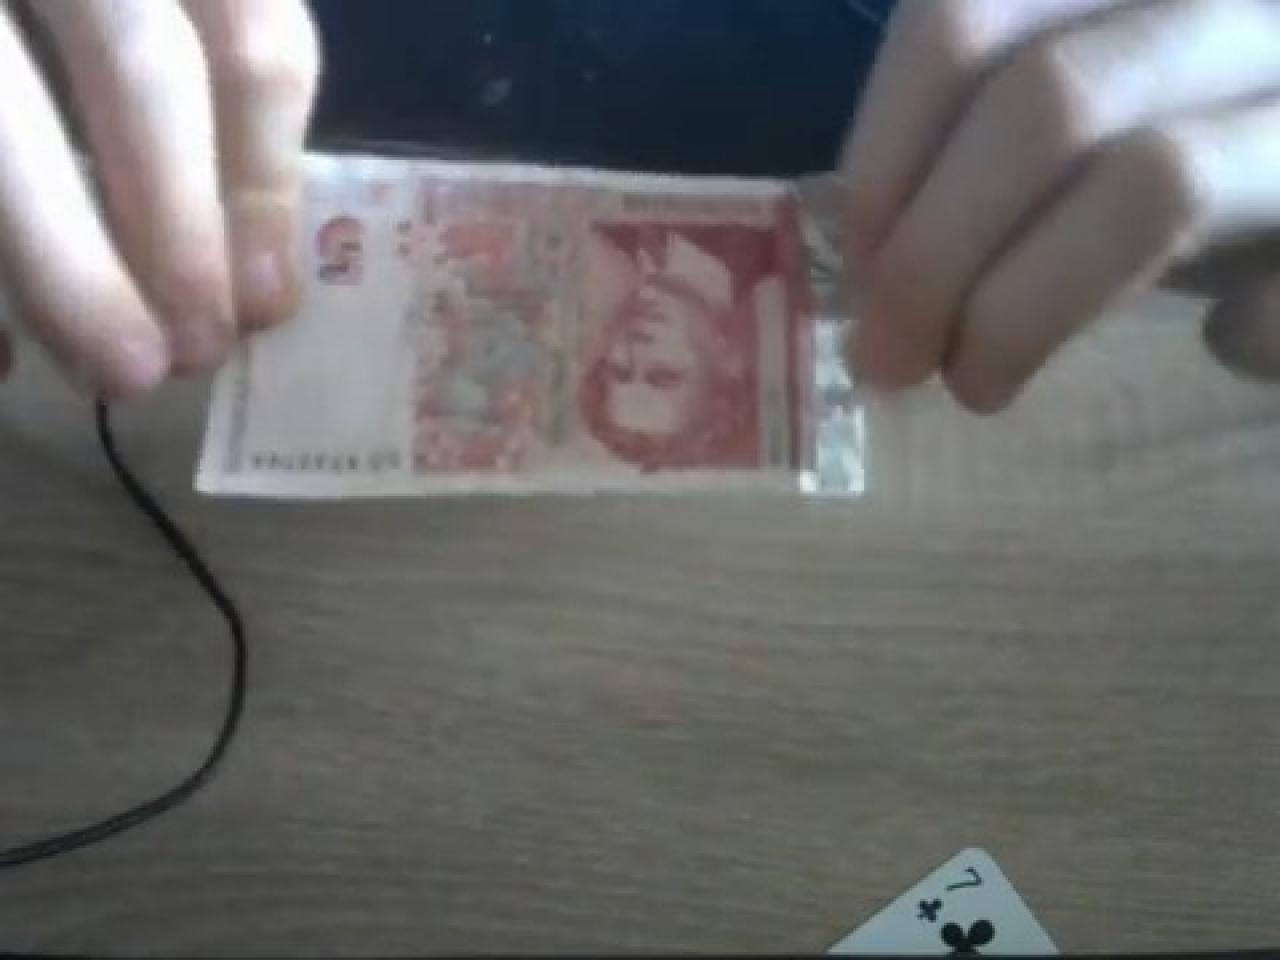5leva: (405, 274, 627, 488)
